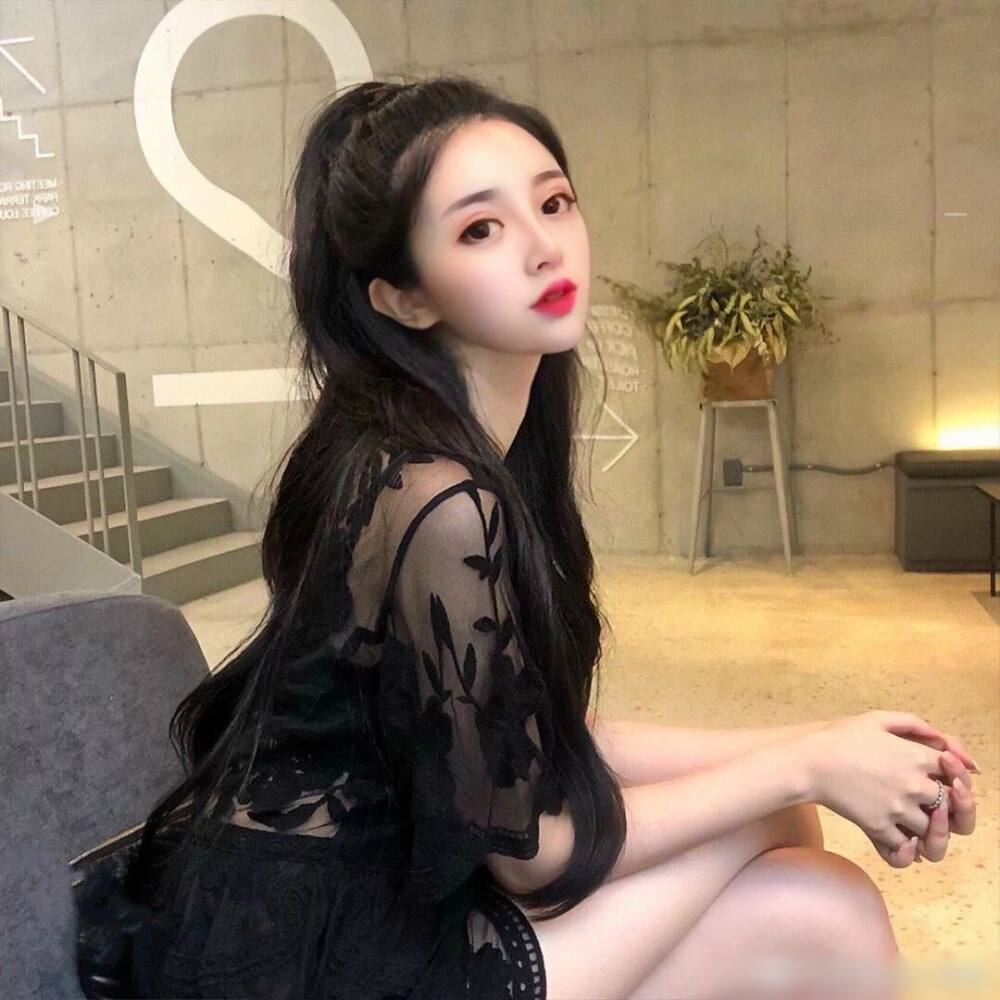person: (282, 75, 776, 1000)
